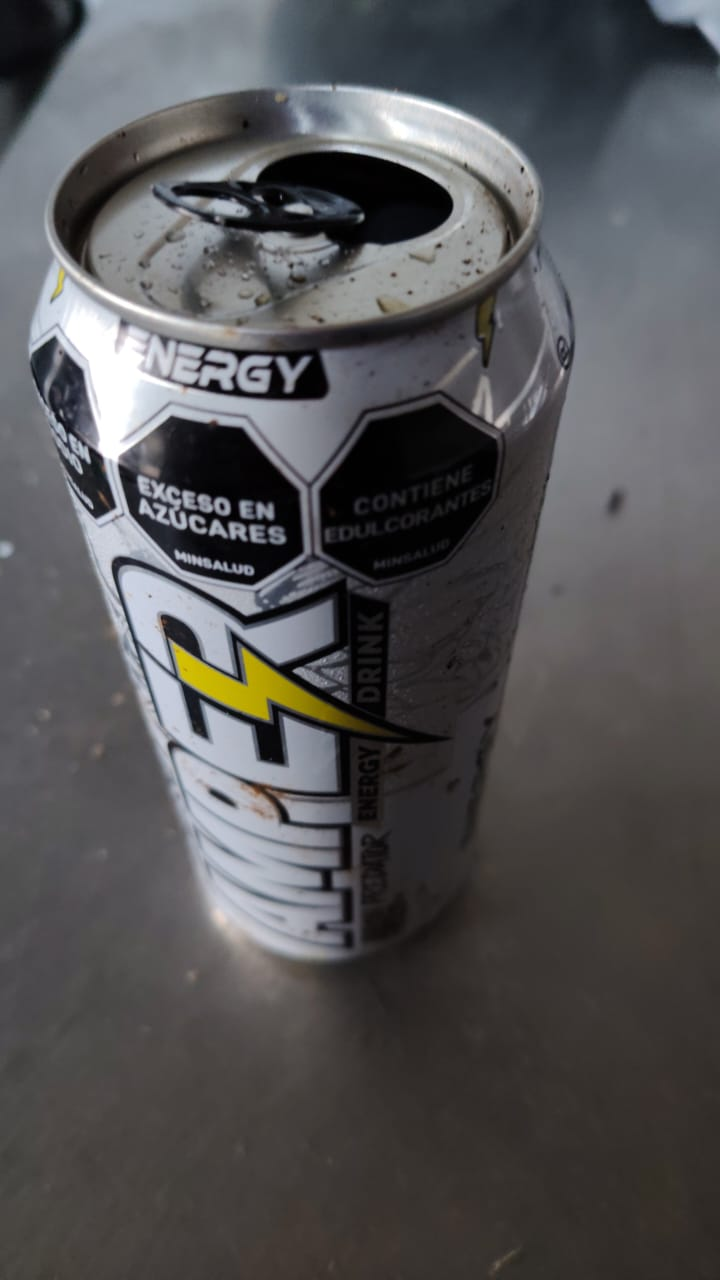Metal: (27, 80, 577, 964)
